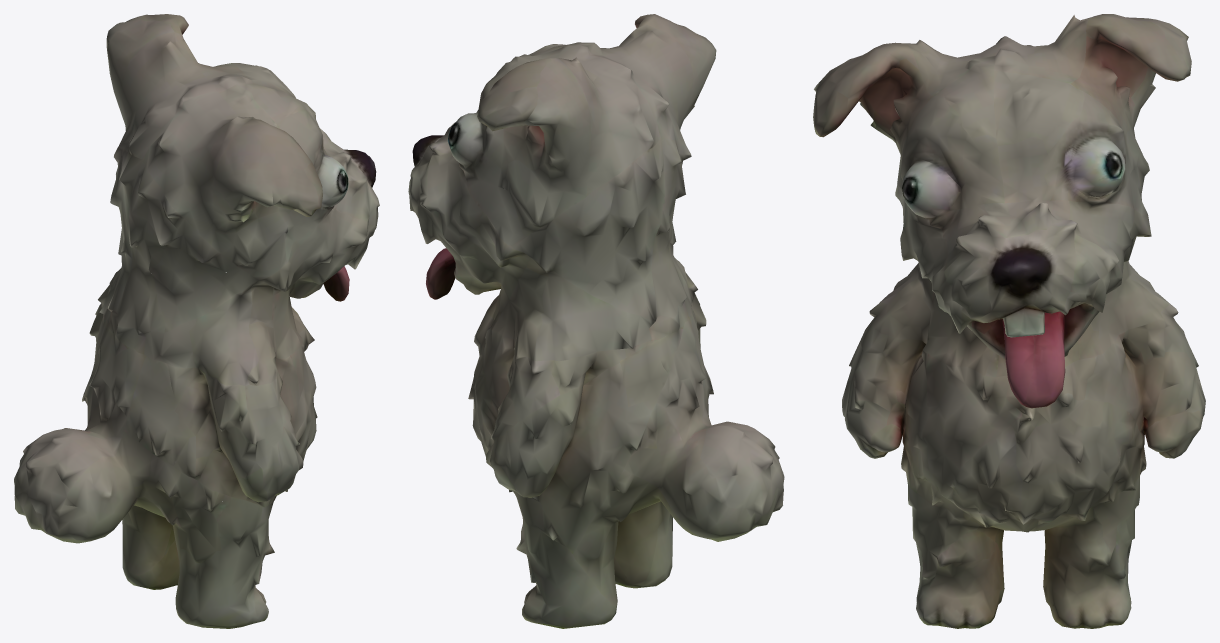
File: dog-lo.glb
3 renders of one model, left to right at view 1: azimuth 30°, elevation 25°; view 2: azimuth 150°, elevation 25°; view 3: azimuth 270°, elevation 25°, orthographic. The views are drawn at different scales.
Visible parts, largest first — view 1: tripo_node_6a70a410-7dae-4be2-8752-e79718502364; view 2: tripo_node_6a70a410-7dae-4be2-8752-e79718502364; view 3: tripo_node_6a70a410-7dae-4be2-8752-e79718502364.
Part boxes in pixels (left/top/right/bottom): tripo_node_6a70a410-7dae-4be2-8752-e79718502364: left=14, top=14, right=379, bottom=628; tripo_node_6a70a410-7dae-4be2-8752-e79718502364: left=408, top=14, right=784, bottom=628; tripo_node_6a70a410-7dae-4be2-8752-e79718502364: left=813, top=14, right=1205, bottom=628.
Bounding box in the file's own units: 0.6539 × 0.9787 × 0.5795.
Materials: 1 (1 with a texture image).
